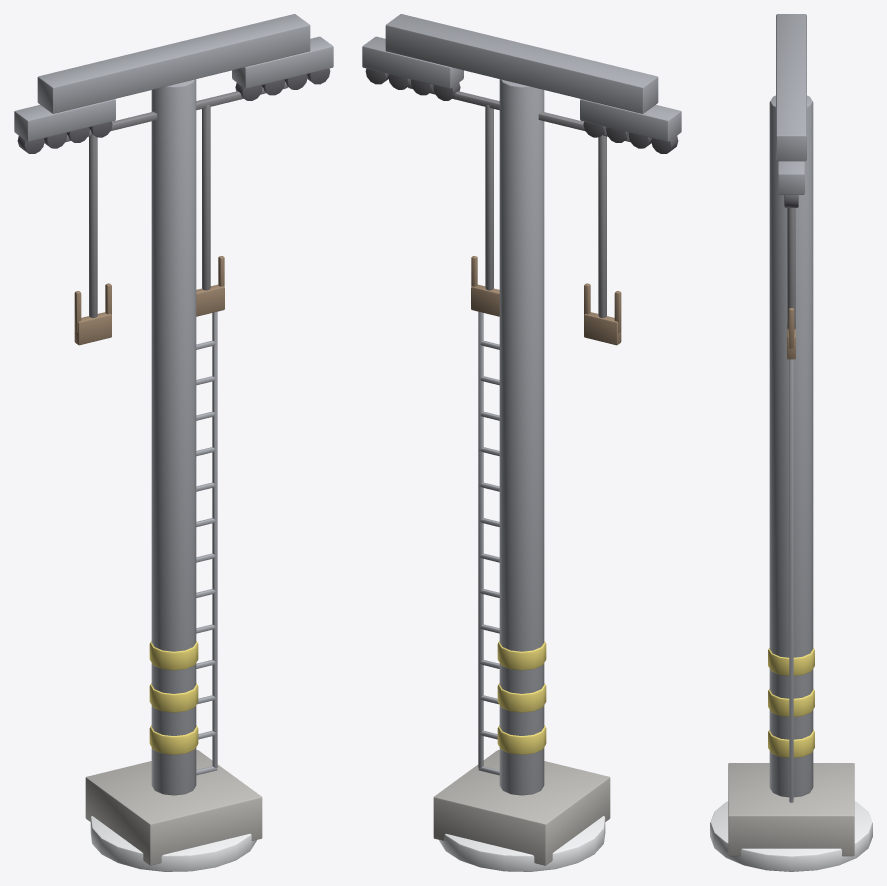
Rendered from th29_skiliftmast.glb.
3 renders of one model, left to right at view 1: azimuth 30°, elevation 25°; view 2: azimuth 150°, elevation 25°; view 3: azimuth 270°, elevation 25°, orthographic. The views are drawn at different scales.
Parts seen in each view (by area): view 1: Cylinder.001, Cube, Cube.001, Cylinder, Cube.002, Cube.026, Cube.003, Cylinder.014, Cylinder.013, Cylinder.004, Cylinder.003, Cylinder.002 (+3 smaller); view 2: Cylinder.001, Cube, Cube.001, Cylinder, Cube.002, Cube.026, Cube.003, Cylinder.014, Cylinder.013, Cylinder.004, Cylinder.003, Cylinder.002 (+3 smaller); view 3: Cylinder.001, Cube, Cube.001, Cylinder, Cube.026, Cylinder.014, Cube.003, Cylinder.002, Cylinder.003, Cylinder.004.
Boxes of the visible parts, <box> form: Cylinder.001: <box>151,79,196,795</box>; Cube: <box>85,750,262,865</box>; Cube.001: <box>37,14,310,113</box>; Cylinder: <box>90,816,256,871</box>; Cube.002: <box>14,99,115,141</box>; Cube.026: <box>212,311,217,767</box>; Cube.003: <box>232,36,333,88</box>; Cylinder.014: <box>202,105,210,290</box>; Cylinder.013: <box>89,135,97,317</box>; Cylinder.004: <box>149,641,198,670</box>; Cylinder.003: <box>149,683,198,712</box>; Cylinder.002: <box>149,725,198,754</box>; Cylinder.001: <box>499,79,544,795</box>; Cube: <box>433,750,610,865</box>; Cube.001: <box>385,14,658,113</box>; Cylinder: <box>439,816,605,871</box>; Cube.002: <box>580,99,681,141</box>; Cube.026: <box>478,311,483,767</box>; Cube.003: <box>362,36,463,88</box>; Cylinder.014: <box>485,105,493,290</box>; Cylinder.013: <box>598,135,606,317</box>; Cylinder.004: <box>497,641,546,670</box>; Cylinder.003: <box>497,683,546,712</box>; Cylinder.002: <box>497,725,546,754</box>; Cylinder.001: <box>769,95,813,797</box>; Cube: <box>728,763,854,856</box>; Cube.001: <box>776,14,806,161</box>; Cylinder: <box>710,801,872,871</box>; Cube.026: <box>789,359,793,800</box>; Cylinder.014: <box>787,208,795,329</box>; Cube.003: <box>778,161,804,194</box>; Cylinder.002: <box>768,730,814,757</box>; Cylinder.003: <box>768,689,814,716</box>; Cylinder.004: <box>768,648,814,675</box>.
Bounding box in the file's own units: 3.8 × 9.32 × 1.8.
